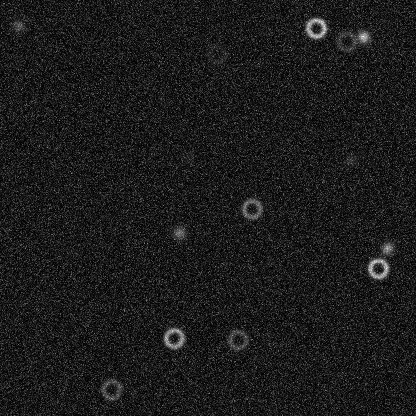Ring: (334, 29, 358, 53), (303, 16, 327, 40), (239, 196, 263, 220), (366, 256, 390, 280), (204, 41, 228, 65), (99, 377, 123, 401), (225, 327, 249, 351), (161, 326, 185, 350)
Spot: (342, 151, 358, 167), (379, 240, 395, 256), (179, 149, 195, 165), (10, 17, 26, 33), (355, 28, 371, 44), (171, 224, 187, 240)
